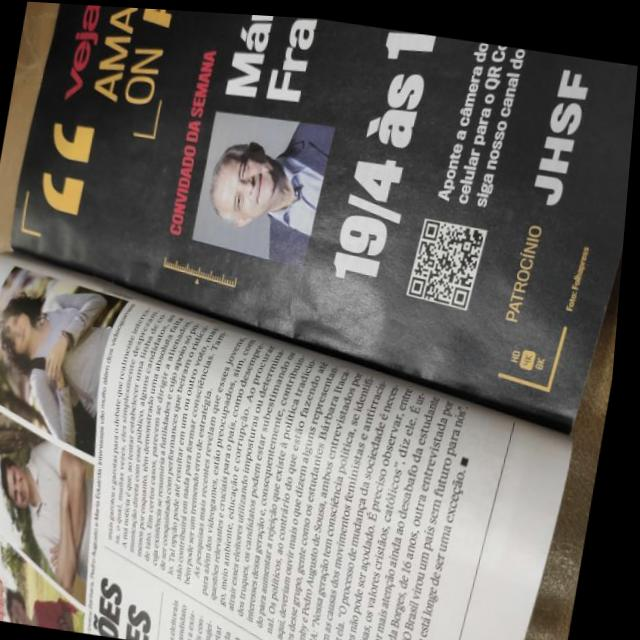qrcode: (413, 214, 489, 303)
